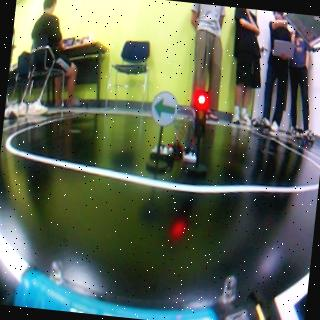left: (151, 91, 177, 122)
red: (186, 88, 212, 175)
